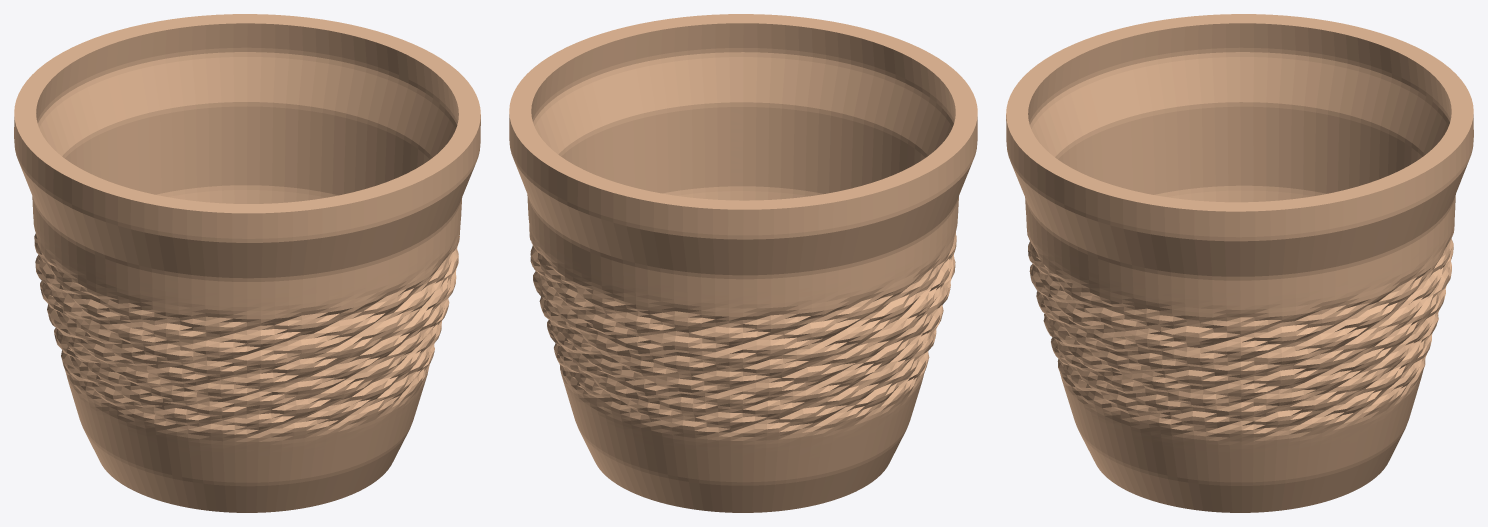
The model's file is Pot_08_Etched_Diamond.glb.
3 renders of one model, left to right at view 1: azimuth 30°, elevation 25°; view 2: azimuth 150°, elevation 25°; view 3: azimuth 270°, elevation 25°, orthographic.
Visible parts, largest first — view 1: Pot_08_Etched_Diamond; view 2: Pot_08_Etched_Diamond; view 3: Pot_08_Etched_Diamond.
Part boxes in pixels (box(x1,y1,x2,y2)): Pot_08_Etched_Diamond: box(14, 14, 480, 512); Pot_08_Etched_Diamond: box(509, 14, 977, 512); Pot_08_Etched_Diamond: box(1006, 14, 1473, 512).
Bounding box in the file's own units: 0.234 × 0.1872 × 0.2341.
